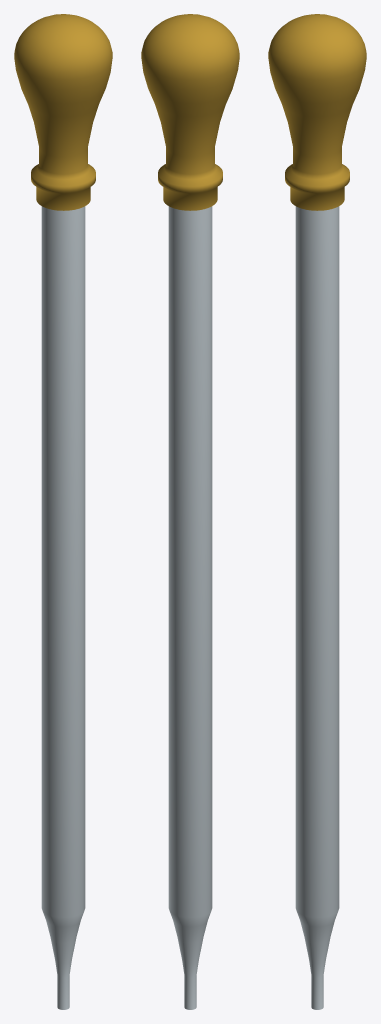
The model's file is Dropper.glb.
The picture shows the model from 3 angles, left to right: view 1: azimuth 30°, elevation 25°; view 2: azimuth 150°, elevation 25°; view 3: azimuth 330°, elevation 25°; orthographic projection.
Parts seen in each view (by area): view 1: model_0; view 2: model_0; view 3: model_0.
Part boxes in pixels (bbox=[...]): model_0: bbox=[14, 14, 112, 1009]; model_0: bbox=[141, 14, 239, 1009]; model_0: bbox=[268, 14, 366, 1009].
Size of the model in its own units: 0.0162 by 0.1815 by 0.0162.
2 materials, 2 textured.
